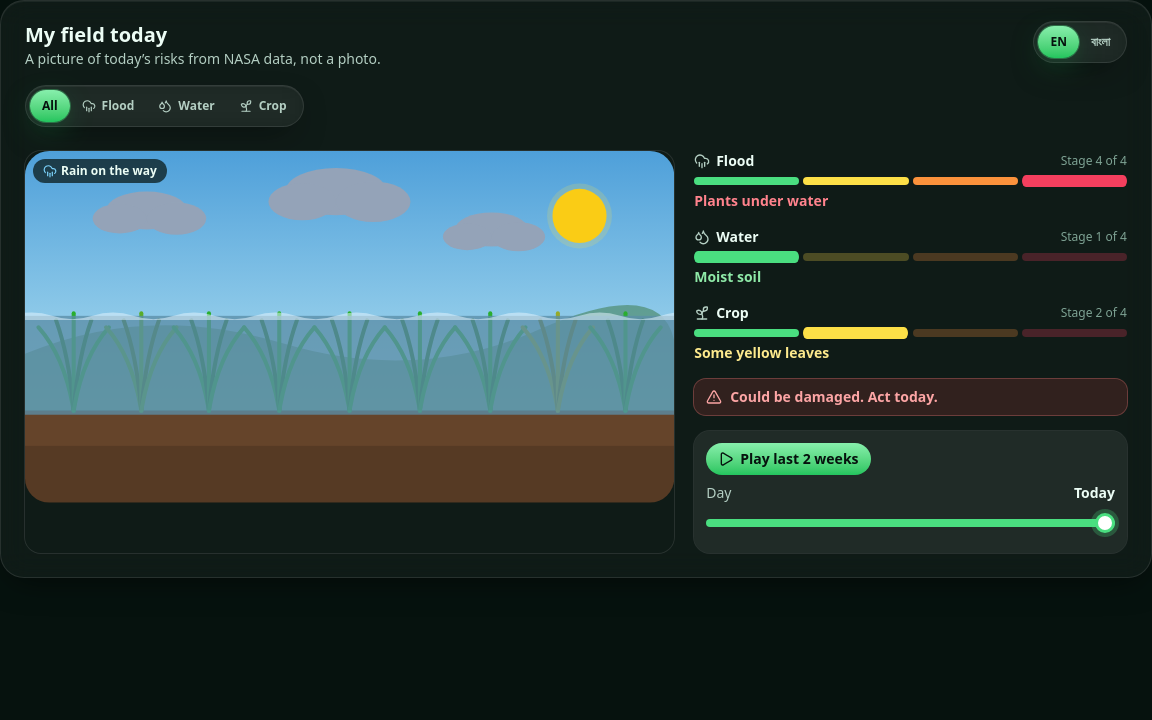
FieldView › speaks Bengali and remembers the choice
Click the radio button labelled "বাংলা".
click(1100, 42)  # box [1079,26,1122,58]
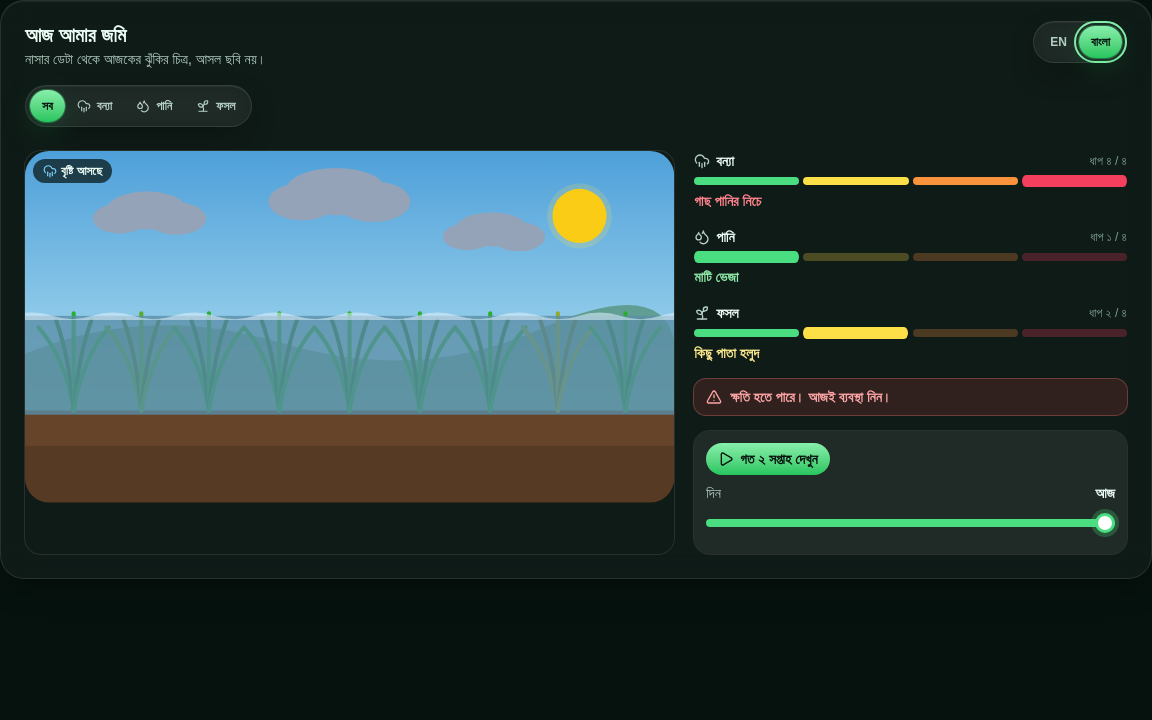
Expected: the picture named "বন্যা: গাছ পানির নিচে, ধাপ ৪ / ৪" is shown, [694,177,1127,185]
Expected: the heading "আজ আমার জমি" is shown, [25,24,126,46]
Expected: the message reads "ক্ষতি হতে পারে। আজই ব্যবস্থা নিন।", [730,389,891,405]
